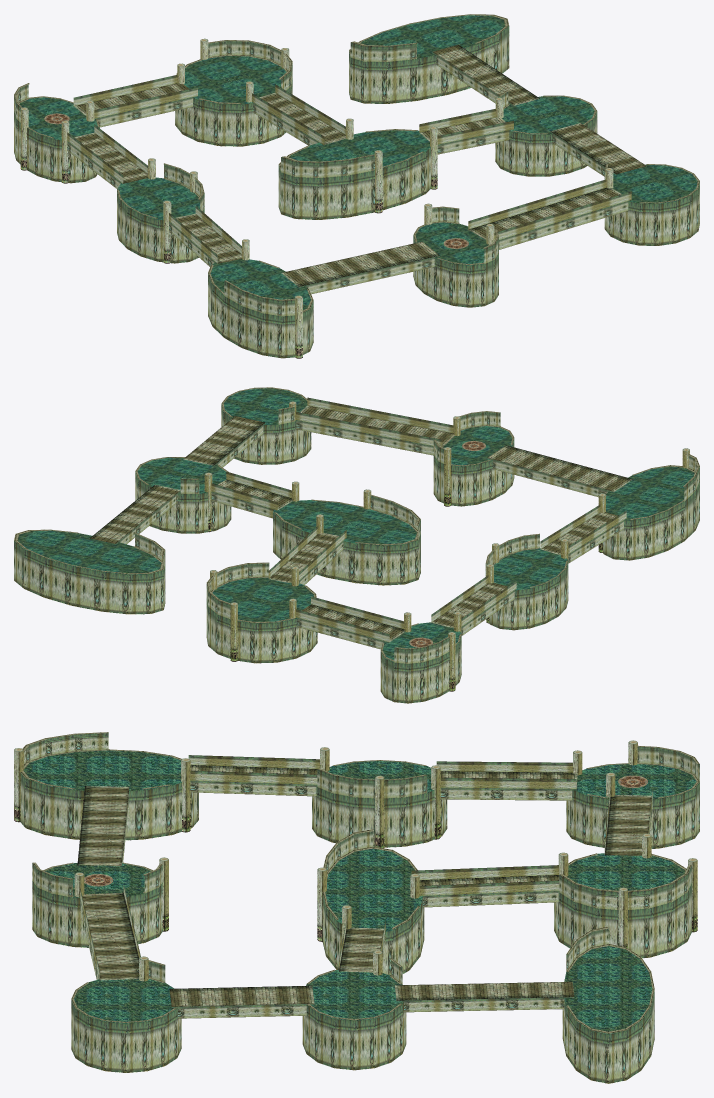
File: anterose.gltf
3 views of the same model, one above another, from view 1: azimuth 30°, elevation 25°; view 2: azimuth 150°, elevation 25°; view 3: azimuth 270°, elevation 25° (orthographic). The views are drawn at different scales.
Parts seen in each view (by area): view 1: Esmelas platforms floor 1; view 2: Esmelas platforms floor 1; view 3: Esmelas platforms floor 1.
Part boxes in pixels (bbox=[...]): Esmelas platforms floor 1: bbox=[14, 14, 699, 358]; Esmelas platforms floor 1: bbox=[14, 387, 699, 703]; Esmelas platforms floor 1: bbox=[14, 732, 699, 1083].
Bounding box in the file's own units: 49.4 × 5.7 × 50.34.
Materials: 6 (6 with a texture image).
